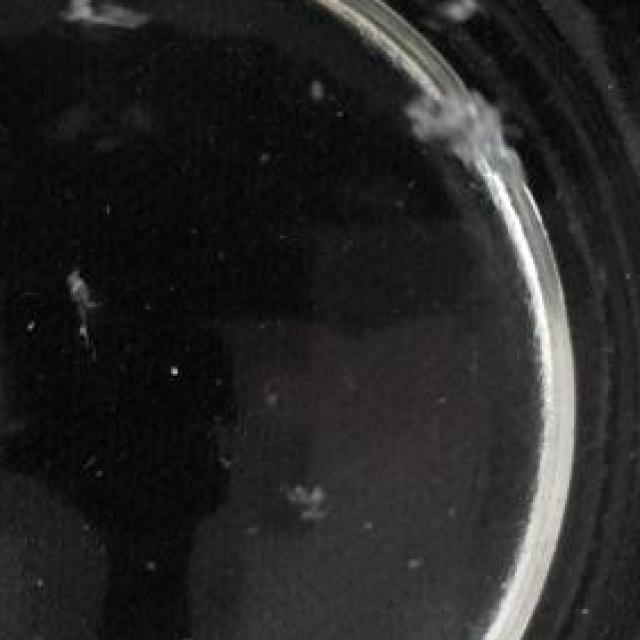Microplastic: (405, 78, 515, 169), (276, 471, 342, 538), (66, 0, 144, 48), (59, 264, 105, 331), (439, 0, 496, 24), (214, 621, 280, 640)
